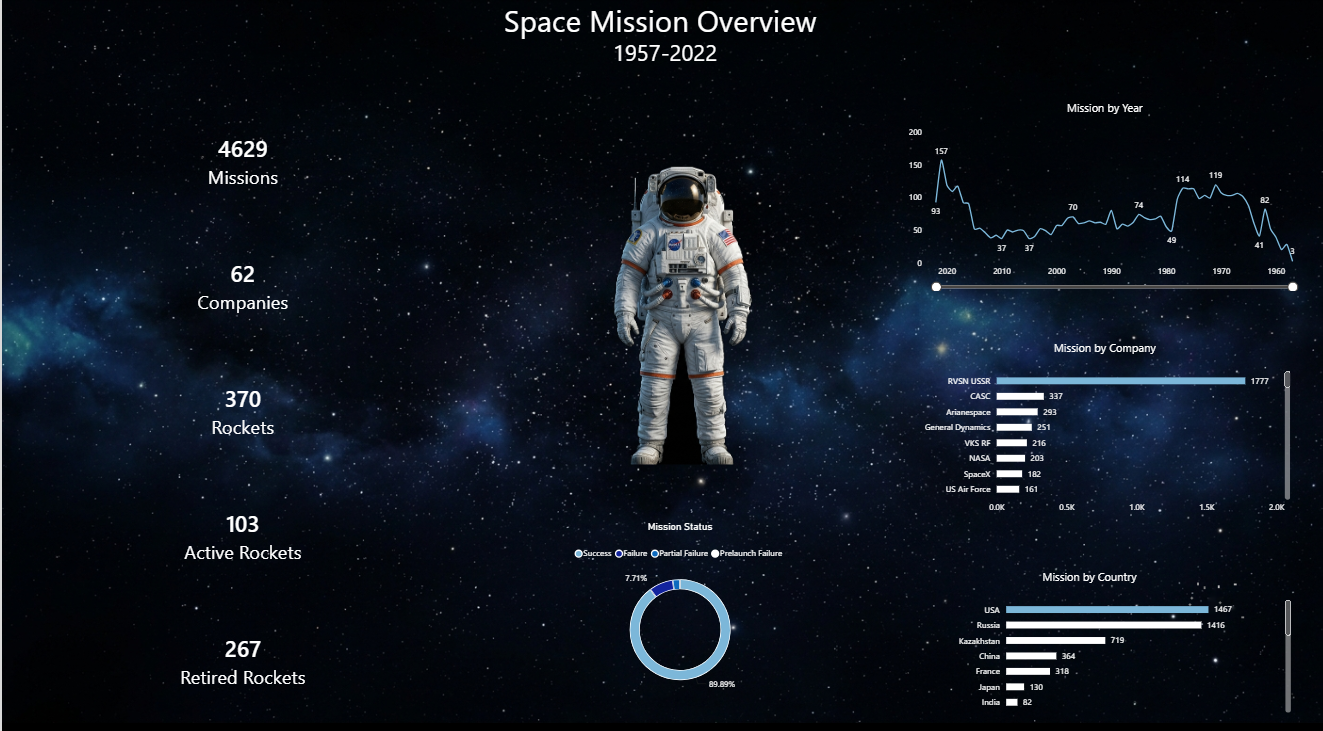

This screenshot's page, from the dashboard's own definition file:
{"tool":"powerbi","page":{"name":"Overview","canvas":[1920,1080],"ordinal":1},"visuals":[{"type":"image","box":[652.7,158,614.6,595.1],"z":0},{"type":"textbox","box":[654.2,12.7,611.7,101.3],"z":1000},{"type":"textbox","box":[803.5,67,313.1,47.1],"z":2000},{"type":"cardVisual","fields":{"Data":["_Measure.Total Missions","_Measure.Total Companies","_Measure.Total Rockets","_Measure.Active Rockets","_Measure.Retired Rockets"]},"box":[106,158,484.8,902.4],"z":3000},{"type":"lineChart","title":"Mission by Year","fields":{"Category":["space_missions.Year"],"Y":["_Measure.Mission Count"]},"box":[1311.5,158,569.2,277],"z":4000},{"type":"clusteredBarChart","title":"Mission by Company","fields":{"Category":["space_missions.Company"],"Y":["_Measure.Mission Count"]},"box":[1311.5,491.3,569.2,285.7],"z":5000},{"type":"clusteredBarChart","title":"Mission by Country","fields":{"Category":["space_missions.Country"],"Y":["_Measure.Mission Count"]},"box":[1266.8,821.6,615.3,238.9],"z":6000},{"type":"donutChart","title":"Mission Status","fields":{"Category":["space_missions.MissionStatus"],"Y":["CountNonNull(space_missions.MissionStatus)"]},"box":[803.5,752.8,356.5,284.1],"z":7000}]}

Visuals, with their boxes in screenshot pixels (x1, y1, x2, y2), scaled from the page's 1920x1080 canvas onto the 1323x731 screenshot:
image: x1=450 y1=107 x2=873 y2=510
textbox: x1=451 y1=9 x2=872 y2=77
textbox: x1=554 y1=45 x2=769 y2=77
cardVisual - _Measure.Total Missions x _Measure.Total Companies: x1=73 y1=107 x2=407 y2=718
"Mission by Year" lineChart: x1=904 y1=107 x2=1296 y2=294
"Mission by Company" clusteredBarChart: x1=904 y1=333 x2=1296 y2=526
"Mission by Country" clusteredBarChart: x1=873 y1=556 x2=1297 y2=718
"Mission Status" donutChart: x1=554 y1=510 x2=799 y2=702
